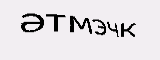К: (119, 19, 139, 39)
М: (67, 12, 95, 35)
Т: (46, 10, 65, 33)
Ч: (107, 20, 120, 37)
Э: (90, 16, 108, 37)
Ә: (18, 11, 48, 36)
